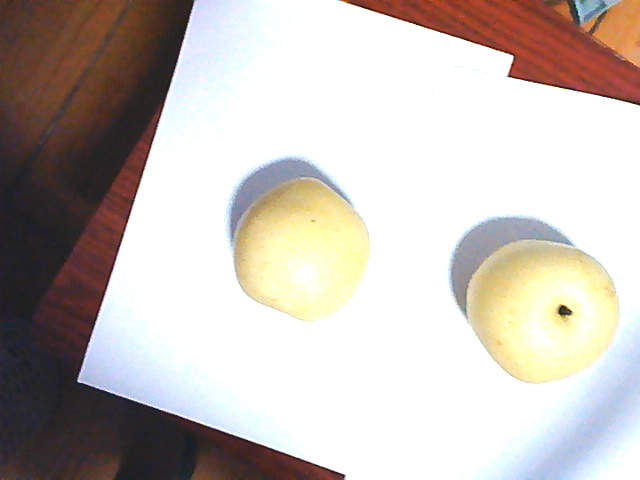pear: (466, 236, 619, 390), (230, 175, 377, 317)
